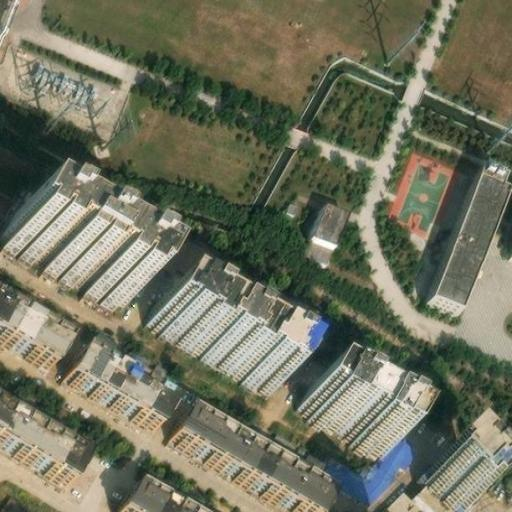building: (172, 403, 333, 512), (142, 290, 286, 393), (7, 200, 143, 299), (433, 156, 508, 305), (63, 339, 174, 421), (293, 381, 396, 455), (317, 432, 415, 503), (429, 446, 488, 506), (119, 478, 196, 512), (313, 196, 349, 239), (278, 196, 300, 218)
